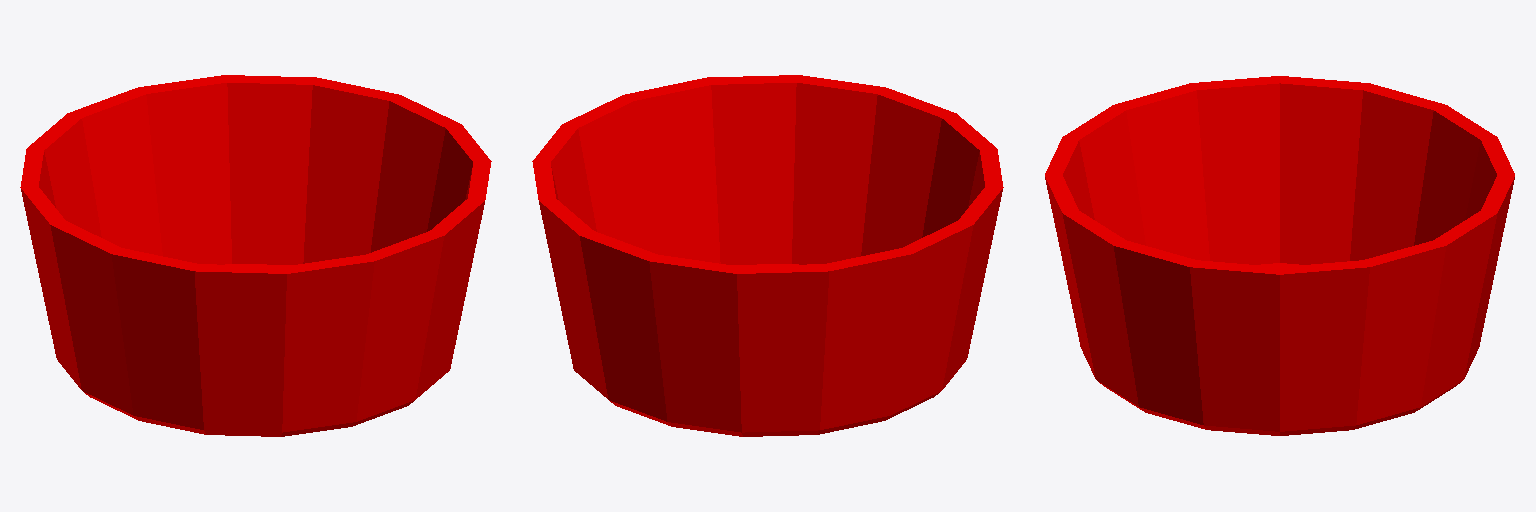
URDF robot description (cooking-pot):
<?xml version="1.0"?>
<robot name="cooking-pot"
       xmlns:xi="http://www.w3.org/2001/XInclude">
  <gazebo>
    <static>false</static>
  </gazebo>
  <link name="nil_link">
    <visual>
      <origin xyz="0 0 0" rpy="0 -0 0"/>
      <geometry>
        <mesh filename="model://cooking-pot/meshes/nil_link_mesh.dae" scale="1 1 1" />
      </geometry>
    </visual>
    <collision>
      <origin xyz="0 0 0" rpy="0 -0 0"/>
      <geometry>
        <mesh filename="model://cooking-pot/meshes/nil_link_mesh.dae" scale="1 1 1" />
      </geometry>
    </collision>
    <inertial>
      <mass value="0.001" />
      <origin xyz="0 0 0" rpy="0 -0 0"/>
      <inertia ixx="1e-03" ixy="0" ixz="0" iyy="1e-03" iyz="0" izz="1e-03"/>
    </inertial>
  </link>
  <gazebo reference="nil_link">
    <mu1>0.9</mu1>
    <mu2>0.9</mu2>
  </gazebo>
</robot>

--- Facts derived from the render (not from the file) ---
The picture shows the robot from 3 angles, left to right: view 1: azimuth 30°, elevation 25°; view 2: azimuth 150°, elevation 25°; view 3: azimuth 270°, elevation 25°; orthographic projection.
Robot: cooking-pot — 1 links, 0 joints (none); root link nil_link; default pose: all joints at 0.
Visible links, largest first — view 1: nil_link; view 2: nil_link; view 3: nil_link.
Boxes of the visible links, <box> form: nil_link: <box>20,75,491,436</box>; nil_link: <box>532,75,1003,436</box>; nil_link: <box>1045,76,1514,435</box>.
Size in the robot's own frame: 0.26 by 0.26 by 0.11 metres.
Meshes: 1 distinct files referenced, 1 mesh visuals loaded (1 Collada DAE).